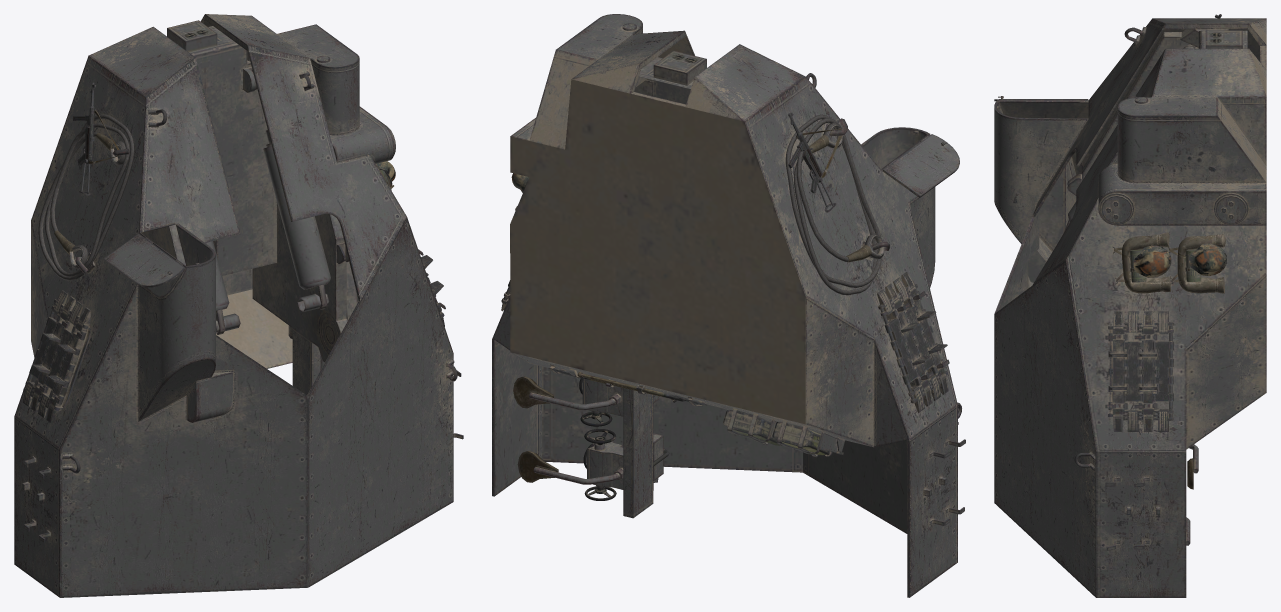
Rendered from Turret_01.glb.
The picture shows the model from 3 angles, left to right: view 1: azimuth 30°, elevation 25°; view 2: azimuth 150°, elevation 25°; view 3: azimuth 270°, elevation 25°; orthographic projection. The views are drawn at different scales.
Parts seen in each view (by area): view 1: set_0_group_0; view 2: set_0_group_0; view 3: set_0_group_0.
Part boxes in pixels (x1,y1,x2,y2): set_0_group_0: (14, 14, 463, 597); set_0_group_0: (492, 14, 965, 597); set_0_group_0: (994, 14, 1266, 597).
Bounding box in the file's own units: 3.99 × 4.27 × 2.26.
1 material, 1 textured.
